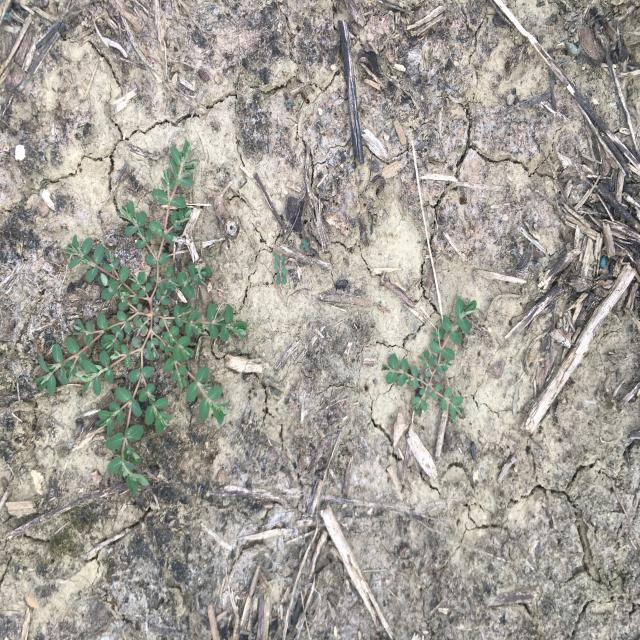SpottedSpurge: (32, 138, 250, 496), (380, 297, 478, 420)
